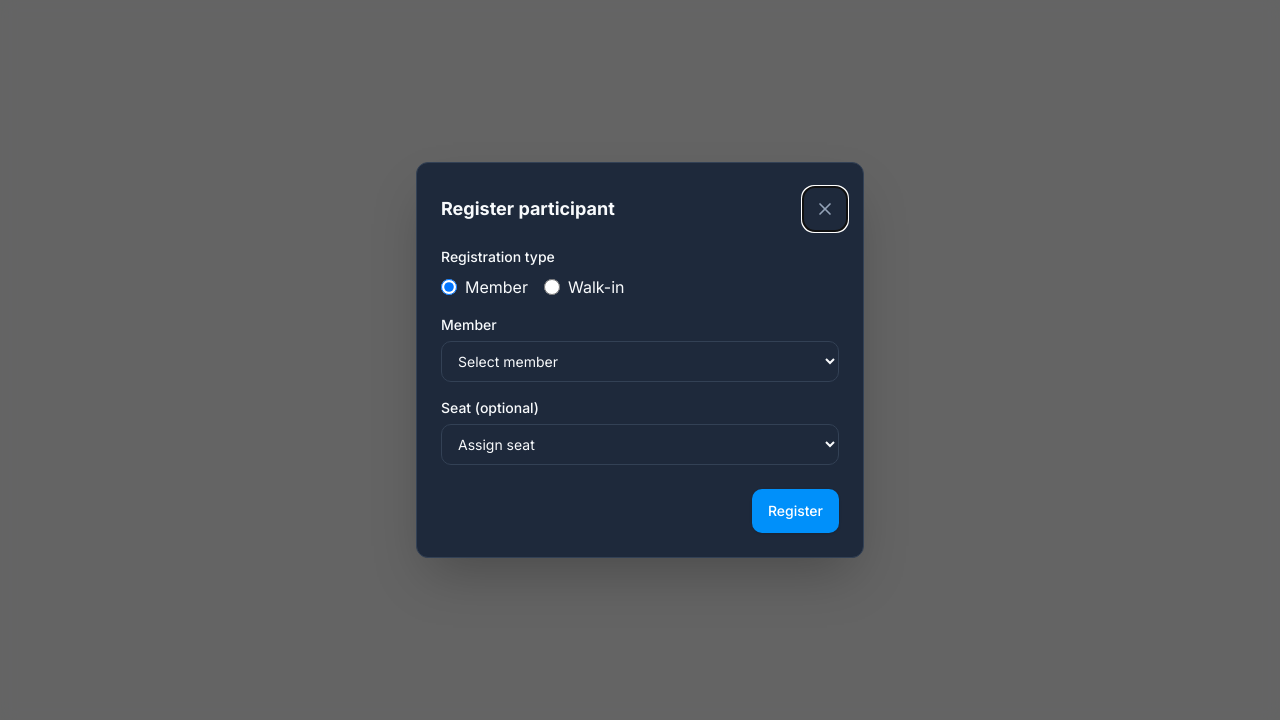
Test: RegisterParticipantModal › renders member mode by default with member dropdown and wallet preview after selection
Check: the heading "Register participant" is shown, box [441,195,615,223]
Check: the radio button labelled "Member" is checked, box [441,279,457,295]
// Wallet preview only appears after member selection - select a member first
Select "Alice (9800000001)" in the dropdown with test id "member-select": (640, 362) [441,341,839,382]
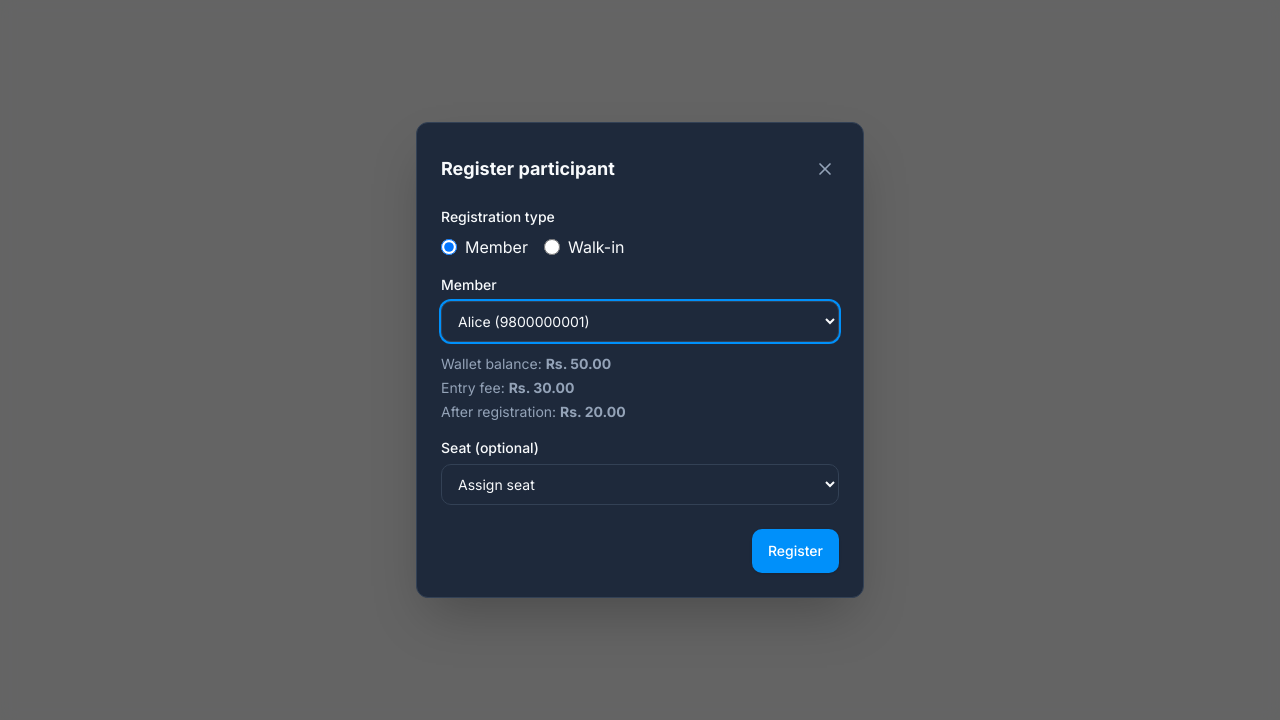
Check: the text "Wallet balance: Rs. 50.00" is shown, box [441,355,611,372]
